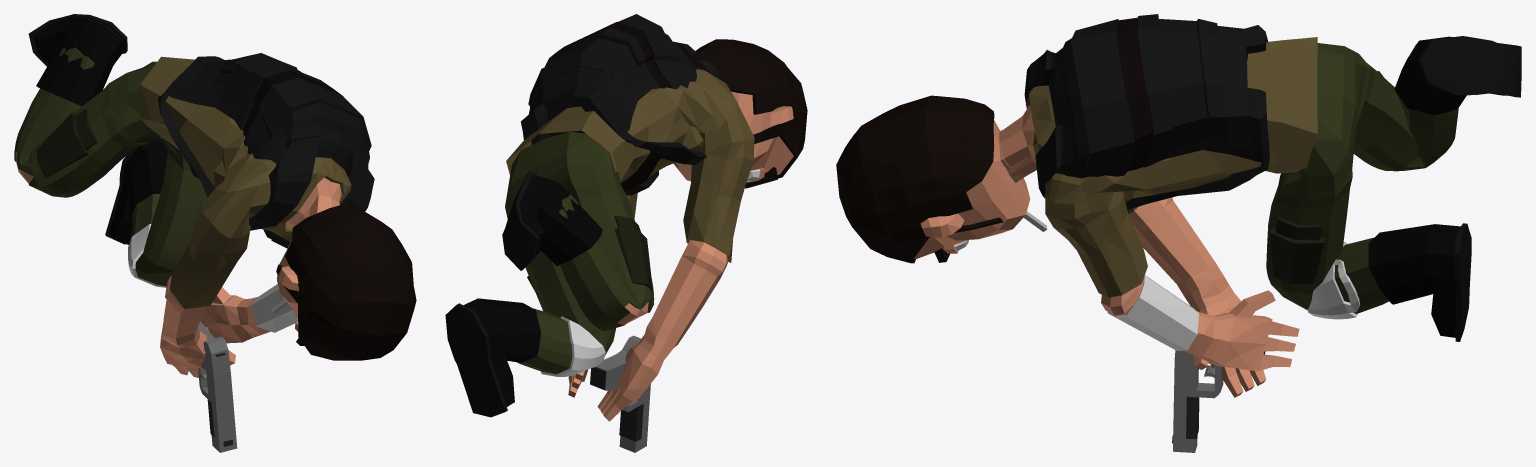
File: frame_0080.obj
The picture shows the model from 3 angles, left to right: view 1: azimuth 30°, elevation 25°; view 2: azimuth 150°, elevation 25°; view 3: azimuth 270°, elevation 25°; orthographic projection. The views are drawn at different scales.
Visible parts, largest first — view 1: Body, Gun; view 2: Body, Gun; view 3: Body, Gun.
Part boxes in pixels (box(x1,y1,x2,y2)): Body: box(14, 14, 416, 377); Gun: box(198, 321, 237, 452); Body: box(445, 14, 807, 421); Gun: box(590, 335, 650, 452); Body: box(836, 14, 1521, 397); Gun: box(1172, 350, 1265, 452).
Bounding box in the file's own units: 1.41 × 2.42 × 3.37.
